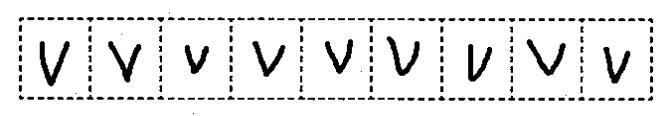V: (519, 32, 573, 82), (101, 37, 151, 86), (382, 32, 426, 82), (35, 36, 72, 90), (596, 41, 634, 87), (249, 37, 290, 79), (321, 34, 359, 78), (460, 40, 496, 85), (179, 38, 215, 80)
